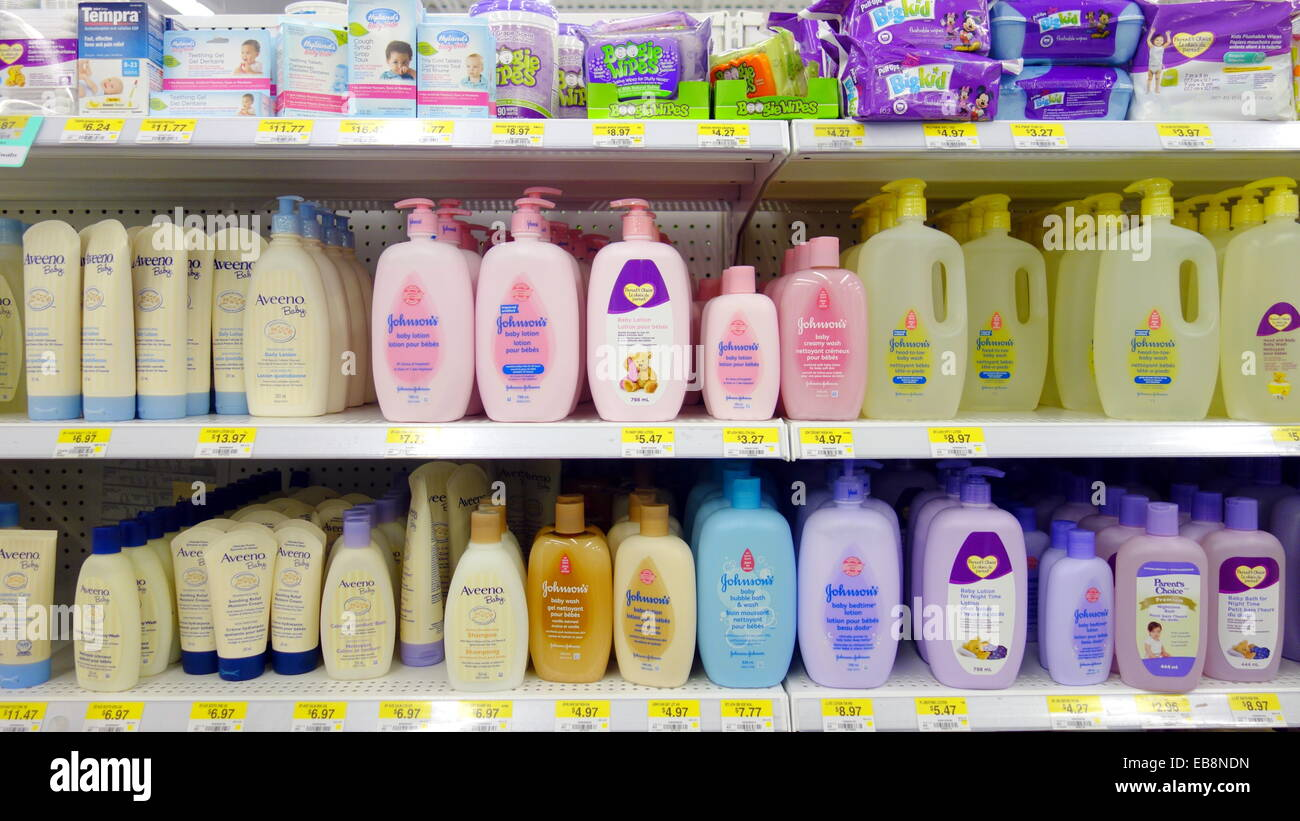Shampoo: (1094, 179, 1218, 418), (857, 178, 967, 418), (476, 197, 577, 421), (244, 198, 341, 415), (697, 478, 795, 685)
